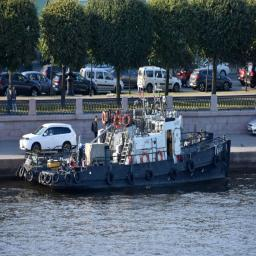tugboat: (37, 88, 233, 202)
